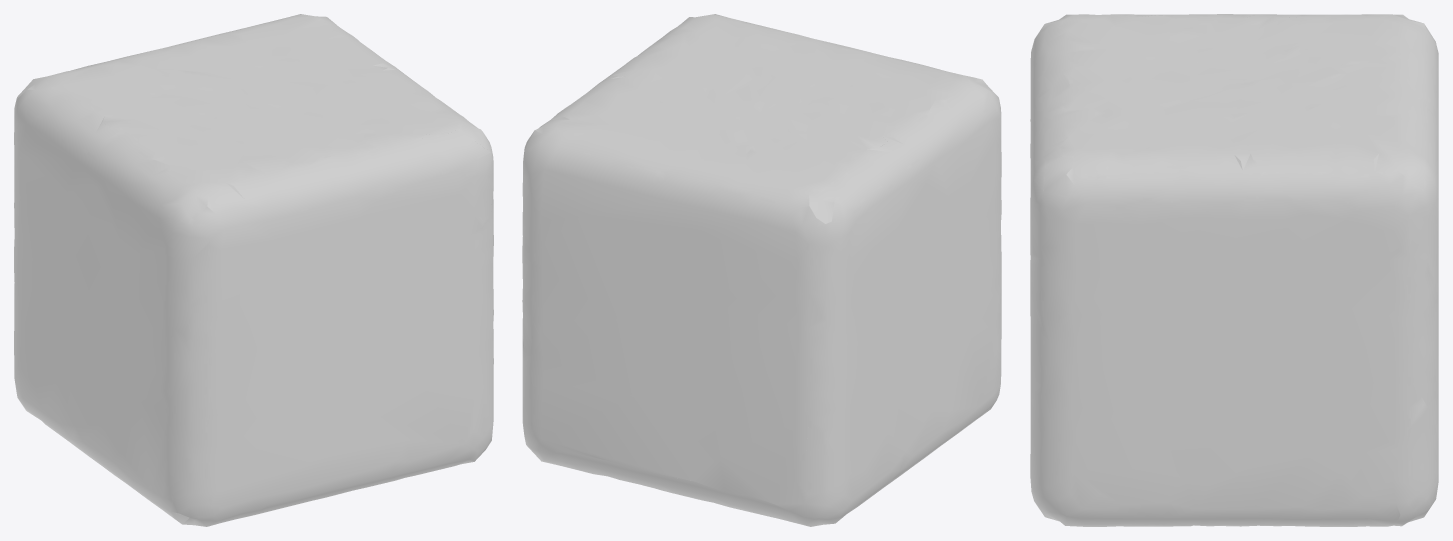
File: SugarCube.glb
3 views of the same model, side by side, from view 1: azimuth 30°, elevation 25°; view 2: azimuth 150°, elevation 25°; view 3: azimuth 270°, elevation 25° (orthographic). The views are drawn at different scales.
Visible parts, largest first — view 1: geometry_0; view 2: geometry_0; view 3: geometry_0.
Part boxes in pixels (x1,y1,x2,y2): geometry_0: (14, 14, 493, 526); geometry_0: (522, 14, 1001, 526); geometry_0: (1030, 14, 1438, 526).
Size of the model in its own units: 0.9989 by 0.9998 by 1.
Materials: 1 (1 with a texture image).
